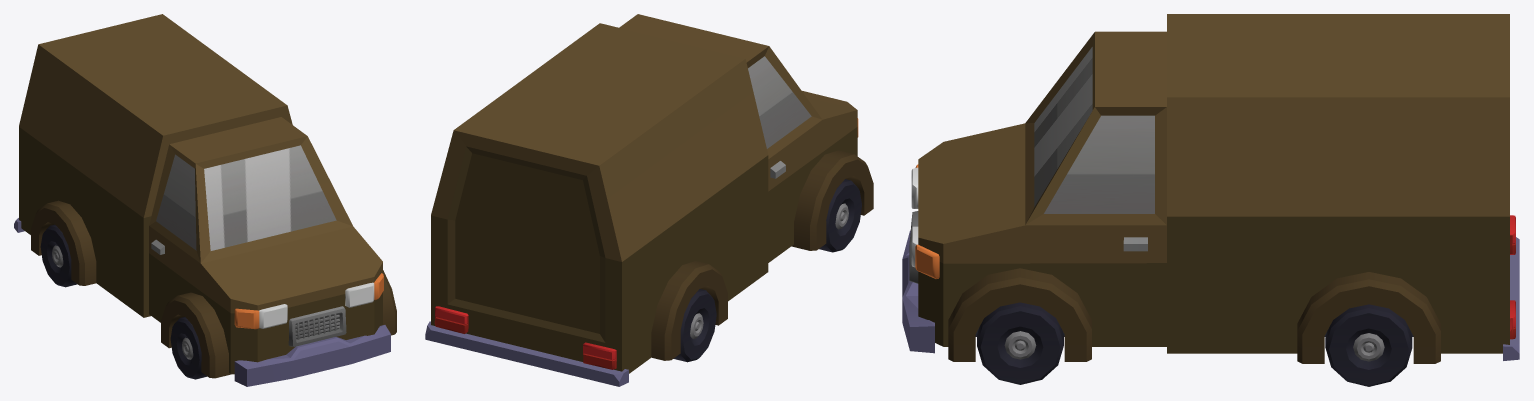
Rendered from Van_11.glb.
The picture shows the model from 3 angles, left to right: view 1: azimuth 30°, elevation 25°; view 2: azimuth 150°, elevation 25°; view 3: azimuth 270°, elevation 25°; orthographic projection. The views are drawn at different scales.
Visible parts, largest first — view 1: Van_11, wheel_FR, wheel_BR; view 2: Van_11, wheel_BR, wheel_FR; view 3: Van_11, wheel_BL, wheel_FL.
Part boxes in pixels (bbox=[...]): Van_11: bbox=[14, 14, 396, 386]; wheel_FR: bbox=[170, 317, 207, 379]; wheel_BR: bbox=[40, 224, 77, 287]; Van_11: bbox=[425, 14, 873, 386]; wheel_BR: bbox=[673, 289, 716, 362]; wheel_FR: bbox=[819, 179, 861, 252]; Van_11: bbox=[902, 14, 1519, 363]; wheel_BL: bbox=[1325, 304, 1412, 386]; wheel_FL: bbox=[977, 302, 1063, 384].
Size of the model in its own units: 1.23 by 1.19 by 2.48.
Materials: 5 (5 with a texture image).
